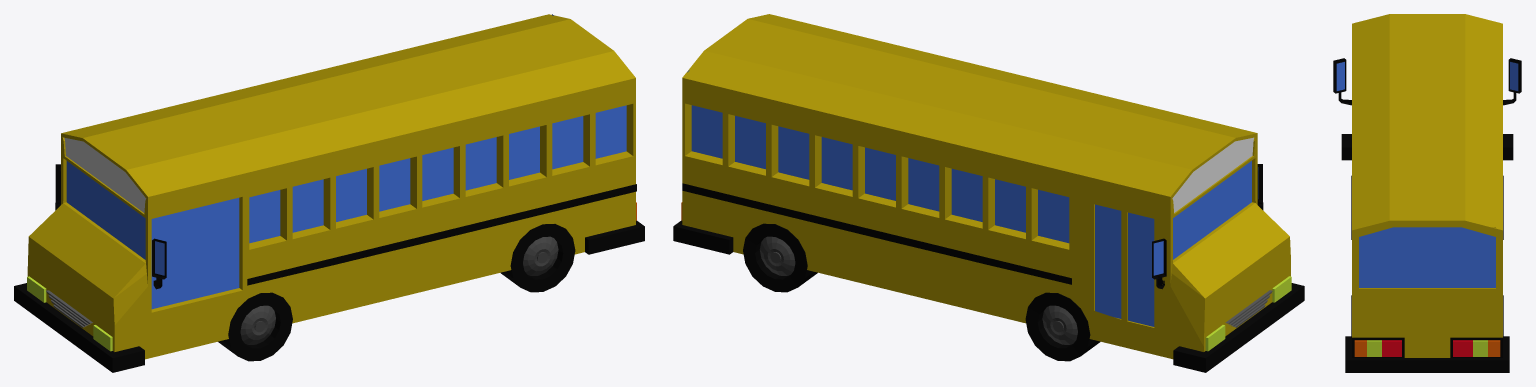
Rendered from yellow_bus.gltf.
The picture shows the model from 3 angles, left to right: view 1: azimuth 30°, elevation 25°; view 2: azimuth 150°, elevation 25°; view 3: azimuth 270°, elevation 25°; orthographic projection. The views are drawn at different scales.
Parts seen in each view (by area): view 1: SchoolBus2; view 2: SchoolBus2; view 3: SchoolBus2.
Boxes of the visible parts, left/top/right/bottom form: SchoolBus2: left=14, top=14, right=644, bottom=372; SchoolBus2: left=673, top=14, right=1304, bottom=372; SchoolBus2: left=1333, top=14, right=1521, bottom=372.
Bounding box in the file's own units: 3.02 × 1.09 × 1.06.
